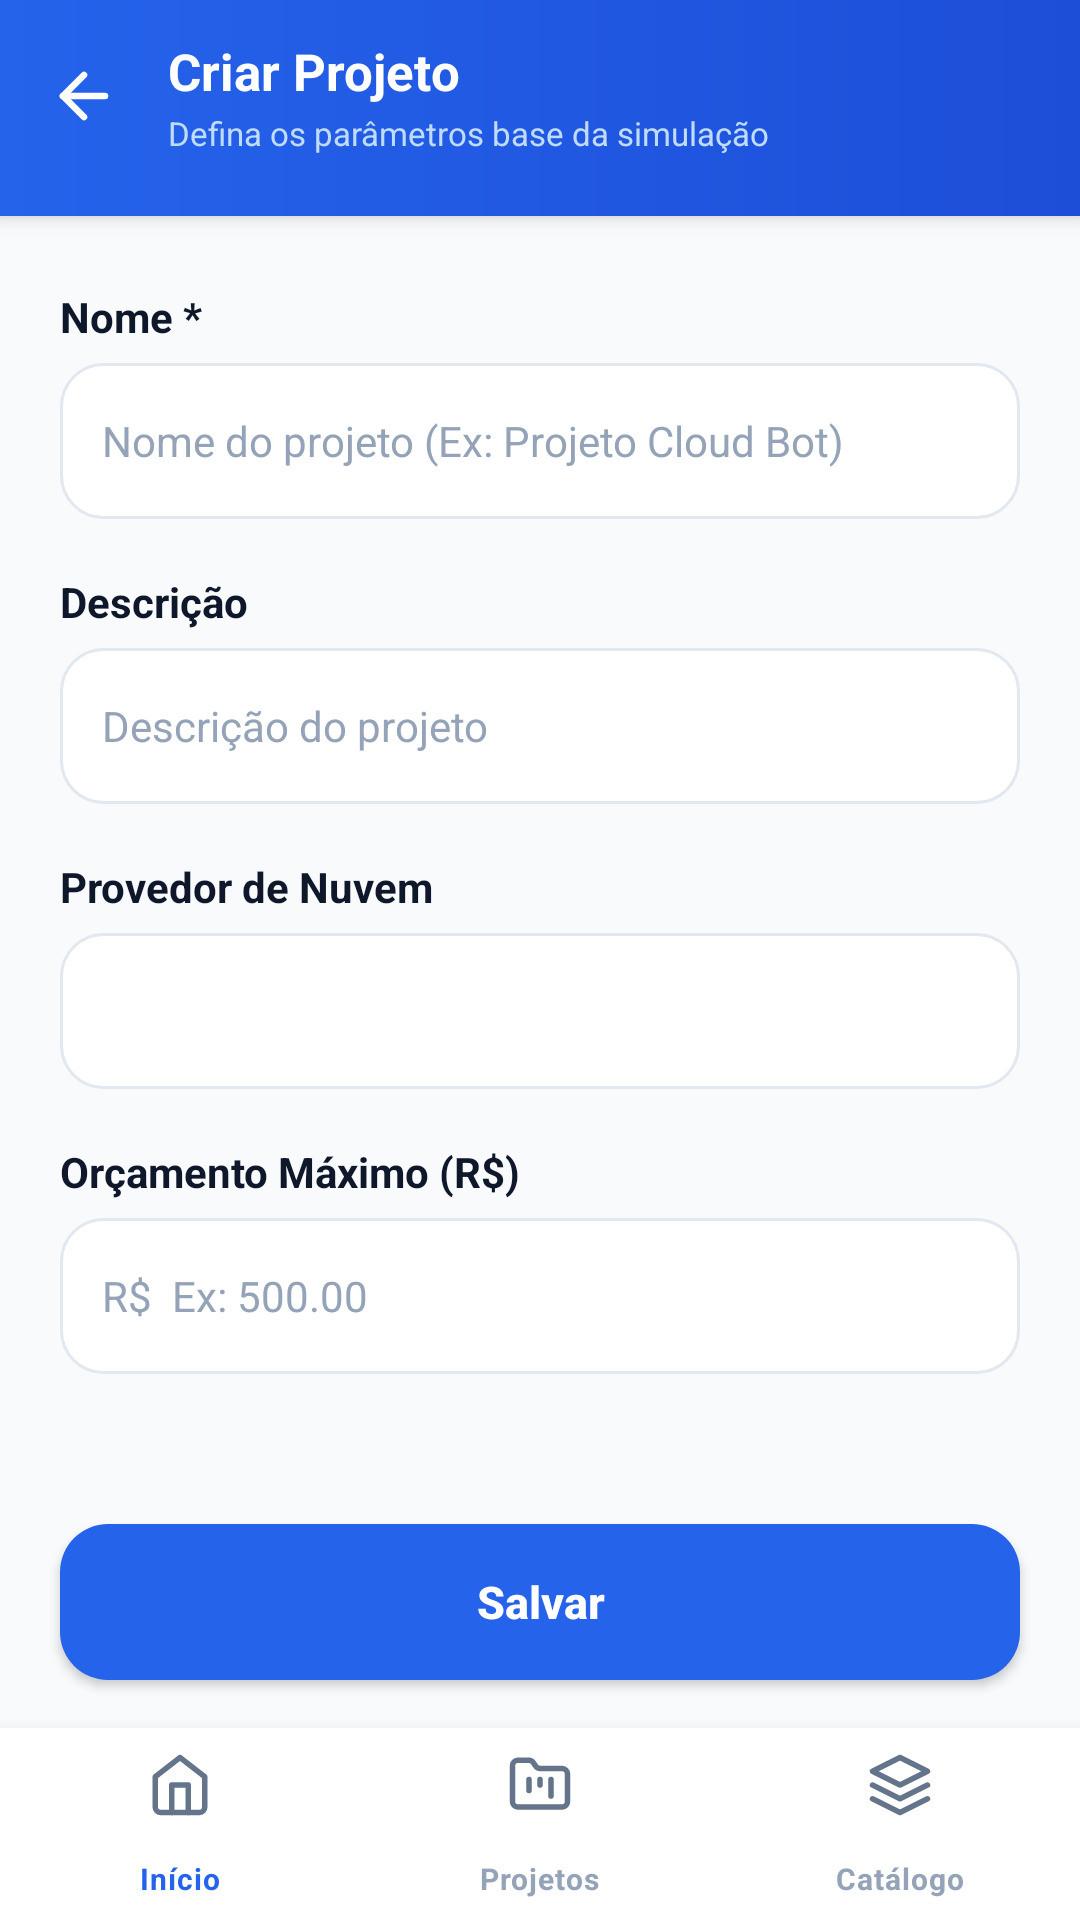

Where icons sit on this 1080px×1920px app screen, as (x1, y1, x2, y2):
Voltar: (59, 71, 109, 121)
